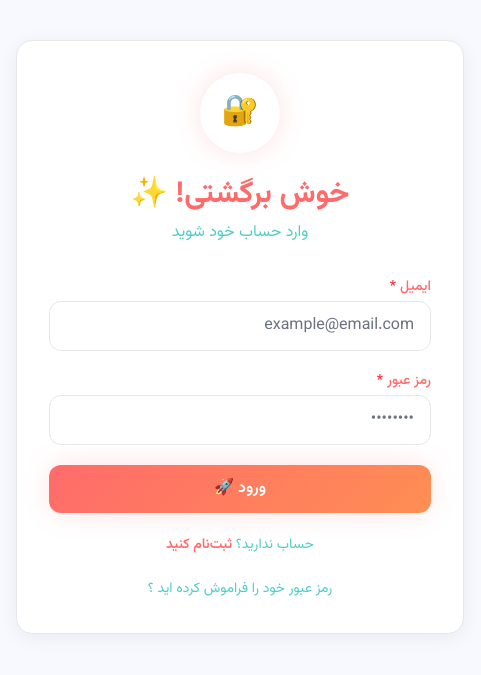
Scenario: LoginPage / LoginForm › validation › shows required errors when submitting empty fields
Click the button "ورود 🚀": (240, 489) left=49, top=465, right=431, bottom=513
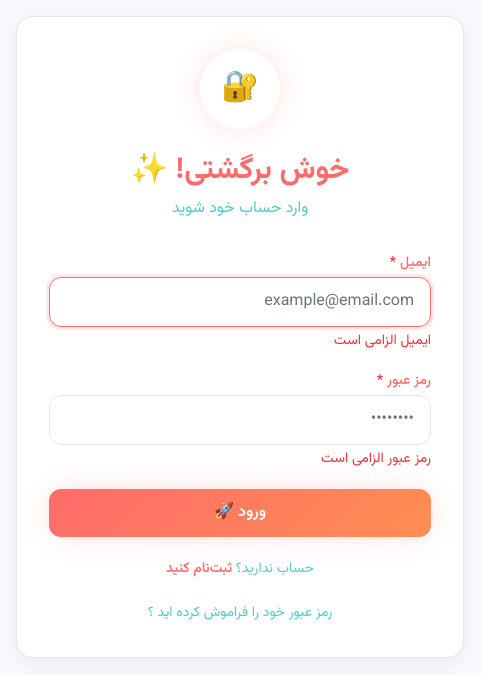
Check: the text "ایمیل الزامی است" is shown, box left=334, top=330, right=431, bottom=352
Check: the text "رمز عبور الزامی است" is shown, box left=321, top=448, right=431, bottom=470
